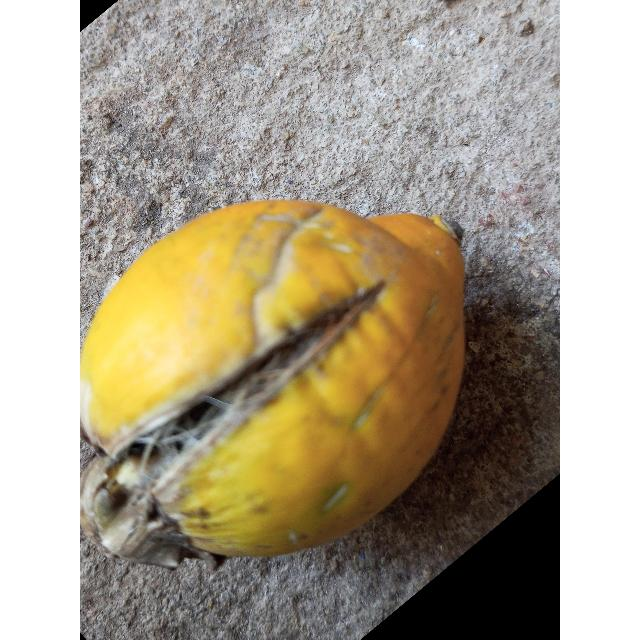damaged: (80, 198, 466, 571)
